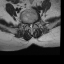CCS_stenosis: (30, 21, 31, 29)
LFS_severe_stenosis: (33, 20, 35, 25)
LLS_stenosis: (31, 20, 33, 27)
RFS_severe_stenosis: (27, 20, 28, 26)
RLS_stenosis: (28, 21, 30, 27)
